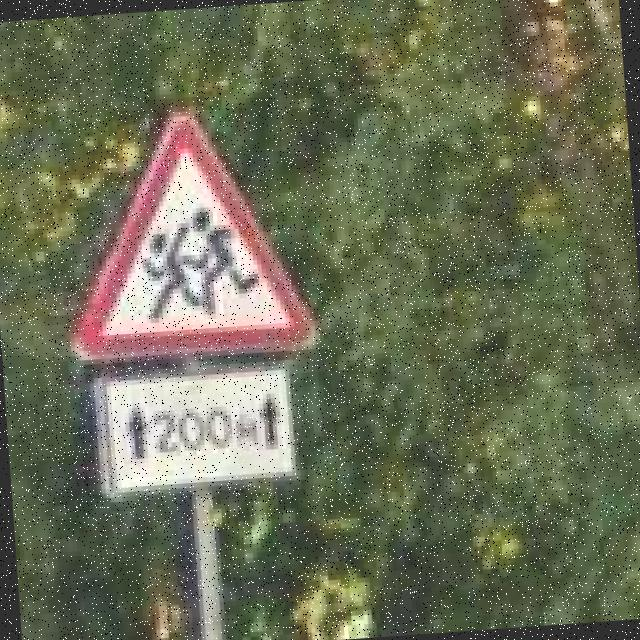Dzieci: (55, 103, 316, 370)
